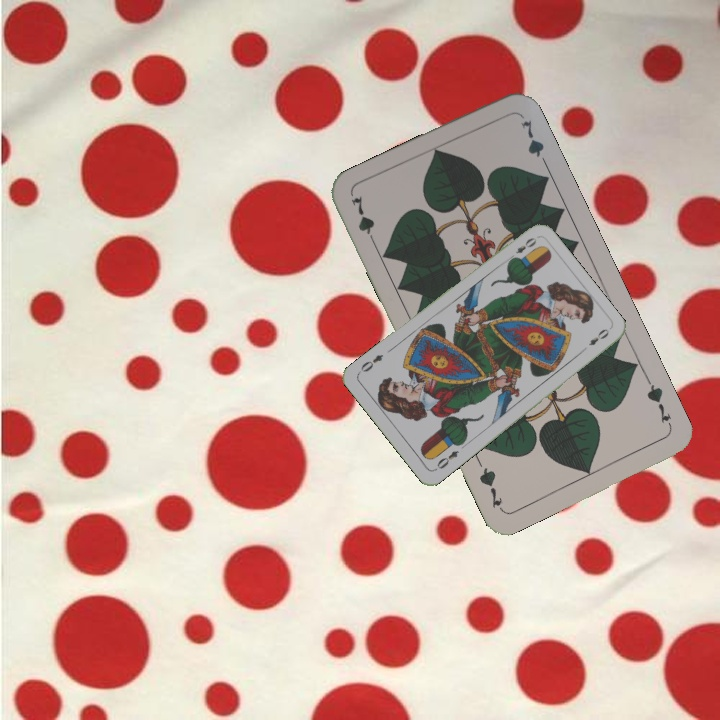EO: (504, 233, 539, 263), (431, 446, 461, 473)
G7: (346, 192, 380, 250), (642, 374, 675, 430)
